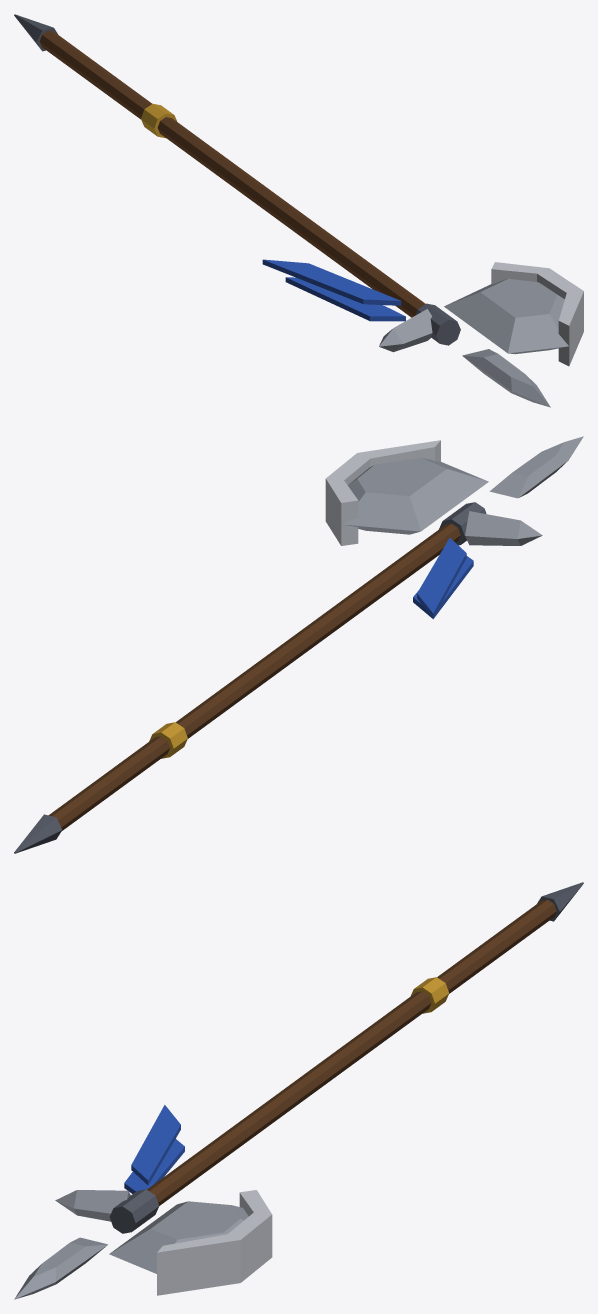
File: 11_Knight_Halberd.glb
3 renders of one model, top to bottom at view 1: azimuth 30°, elevation 25°; view 2: azimuth 150°, elevation 25°; view 3: azimuth 330°, elevation 25°, orthographic. The views are drawn at different scales.
Visible parts, largest first — view 1: 11_Knight_Halberd; view 2: 11_Knight_Halberd; view 3: 11_Knight_Halberd.
Part boxes in pixels (box(x1,y1,x2,y2)): 11_Knight_Halberd: box(14, 14, 583, 407); 11_Knight_Halberd: box(14, 436, 583, 853); 11_Knight_Halberd: box(14, 882, 583, 1299).
Size of the model in its own units: 0.51 by 0.1008 by 2.41.
